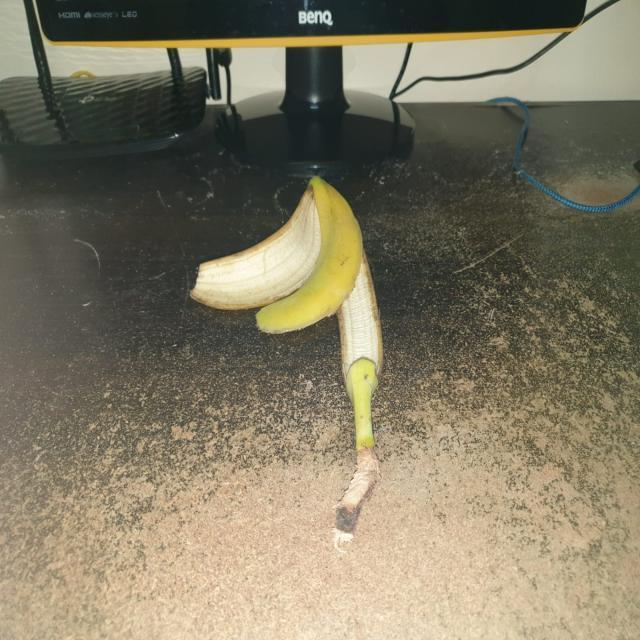banana-peel: (189, 174, 385, 550), (253, 174, 363, 334), (188, 179, 320, 311)
